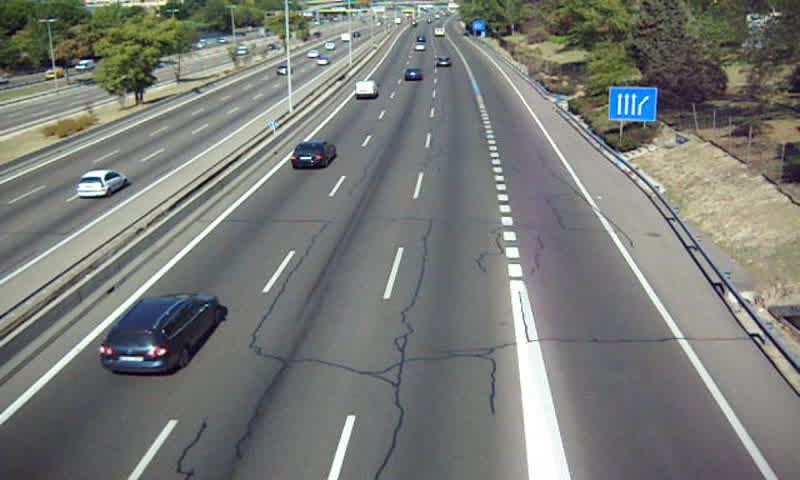car: (101, 294, 220, 373), (291, 142, 336, 169), (404, 67, 422, 82), (432, 56, 452, 69)
van: (355, 80, 377, 99)
